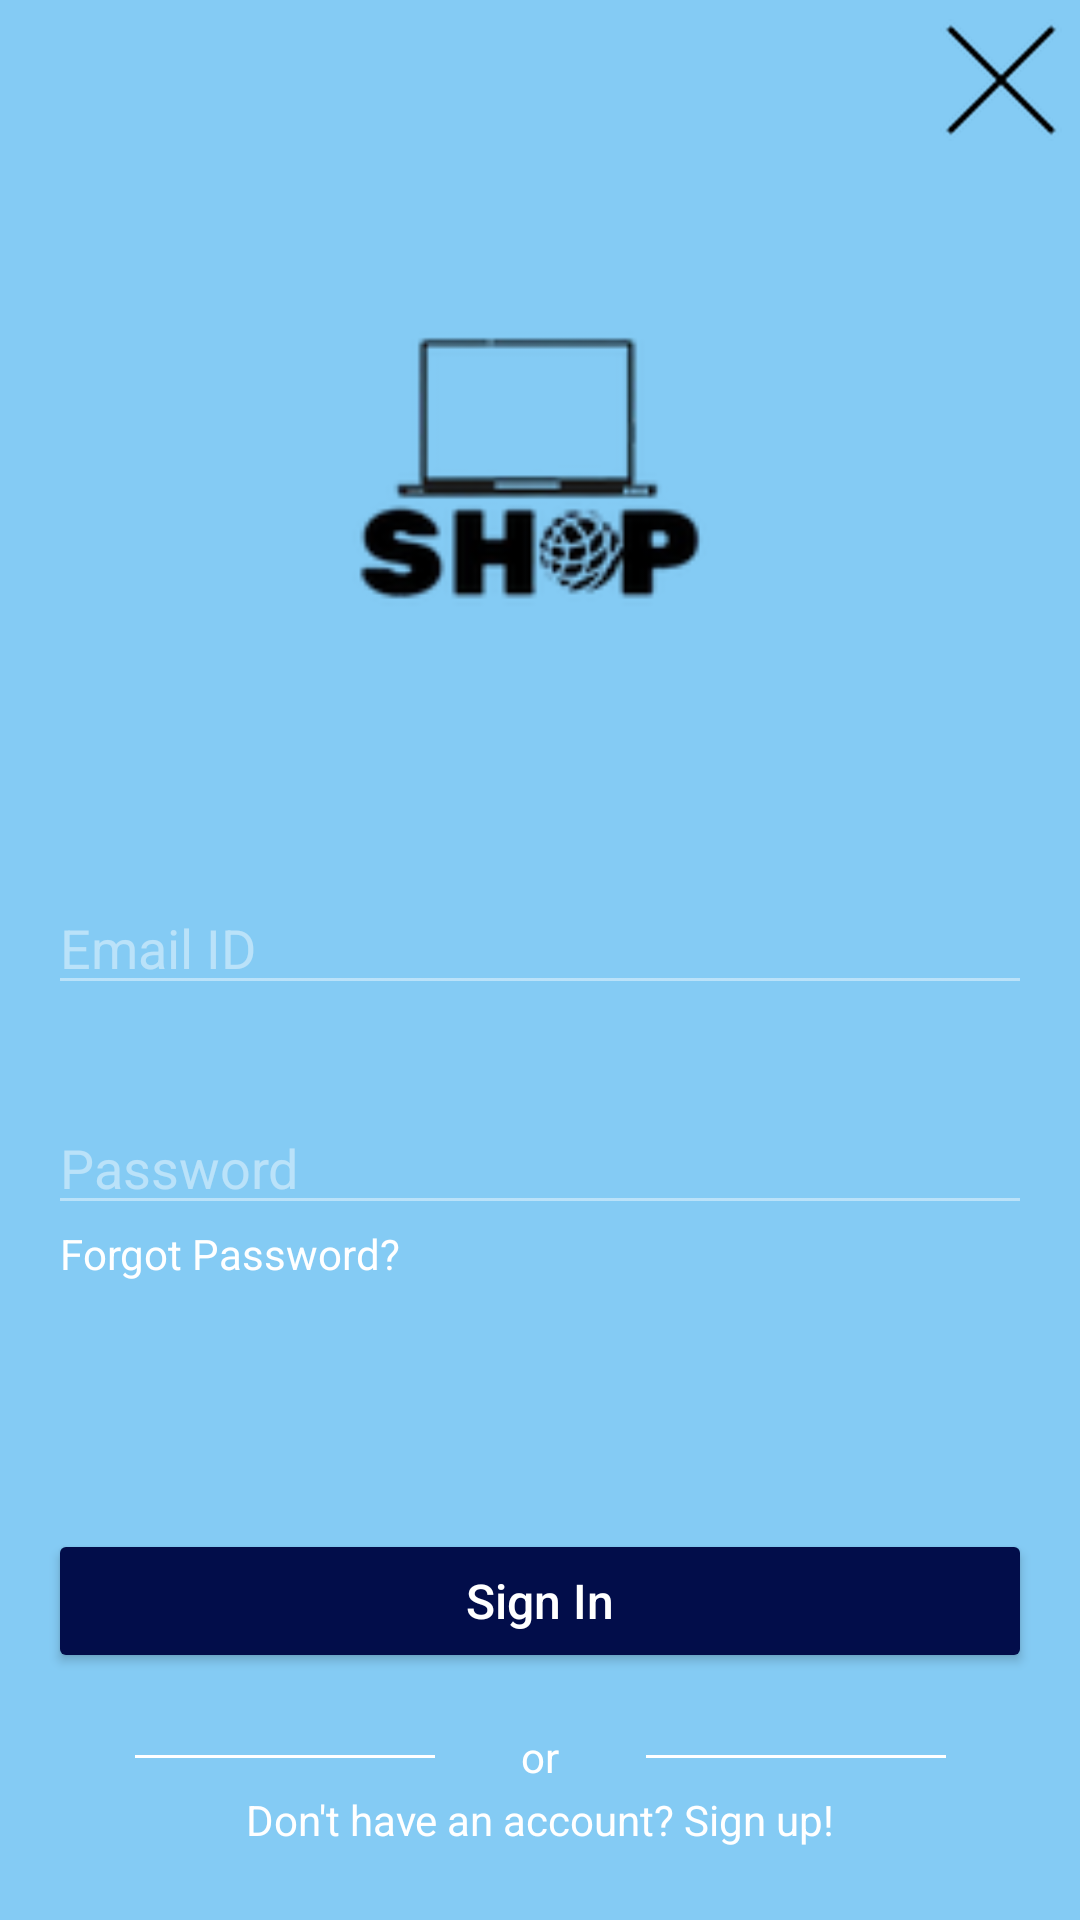

Named icons in this screenshot (1080*1920) and their bounding boxes, (x1, y1, x2, y2):
close cross: (946, 25, 1056, 135)
